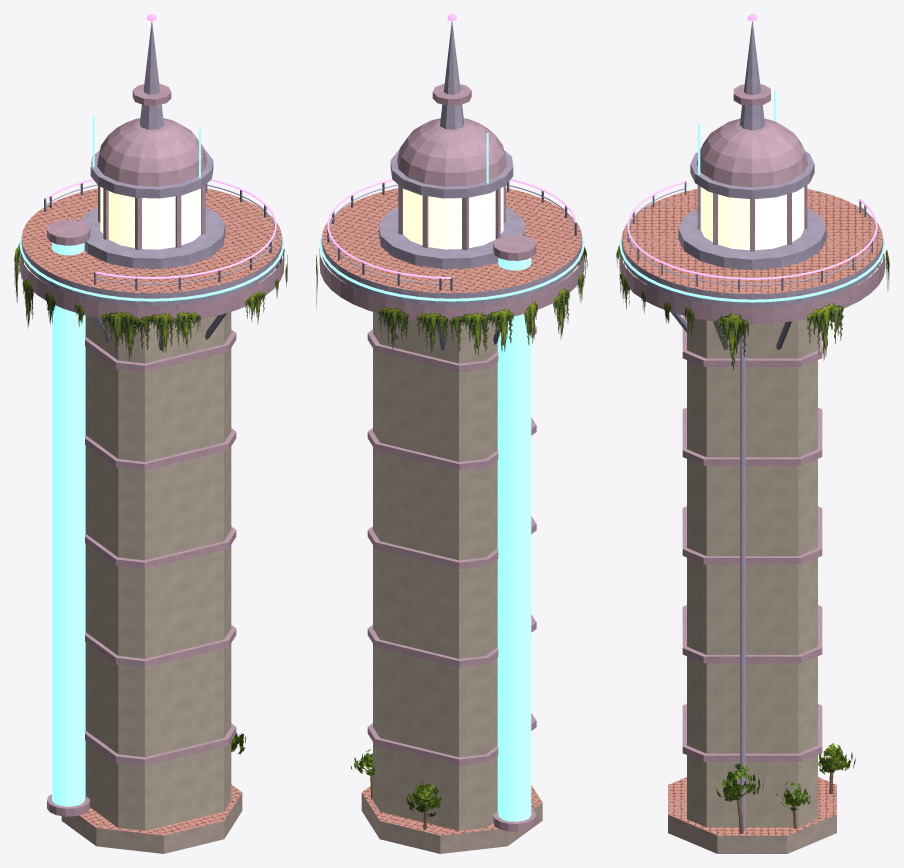
Rendered from TOWER_B.glb.
3 views of the same model, side by side, from view 1: azimuth 30°, elevation 25°; view 2: azimuth 150°, elevation 25°; view 3: azimuth 270°, elevation 25° (orthographic).
Parts seen in each view (by area): view 1: BT_TOWER_B_Body, BT_TOWER_B_Moss44, BT_TOWER_B_Deck44_Rail0_Posts, BT_TOWER_B_Deck44_Rail0_Rail; view 2: BT_TOWER_B_Body, BT_TOWER_B_Moss44, BT_TOWER_B_Trees, BT_TOWER_B_Deck44_Rail0_Posts, BT_TOWER_B_Deck44_Rail0_Rail; view 3: BT_TOWER_B_Body, BT_TOWER_B_Moss44, BT_TOWER_B_Trees, BT_TOWER_B_Deck44_Rail0_Rail, BT_TOWER_B_Deck44_Rail0_Posts.
Part boxes in pixels (x1,y1,x2,y2): BT_TOWER_B_Body: (19, 14, 284, 853); BT_TOWER_B_Moss44: (14, 243, 287, 360); BT_TOWER_B_Deck44_Rail0_Posts: (44, 183, 276, 290); BT_TOWER_B_Deck44_Rail0_Rail: (45, 178, 276, 278); BT_TOWER_B_Body: (319, 14, 584, 853); BT_TOWER_B_Moss44: (316, 246, 587, 354); BT_TOWER_B_Trees: (351, 749, 441, 829); BT_TOWER_B_Deck44_Rail0_Posts: (327, 181, 576, 290); BT_TOWER_B_Deck44_Rail0_Rail: (327, 179, 576, 278); BT_TOWER_B_Body: (619, 14, 885, 853); BT_TOWER_B_Moss44: (616, 245, 889, 370); BT_TOWER_B_Trees: (715, 743, 855, 833); BT_TOWER_B_Deck44_Rail0_Rail: (627, 181, 877, 279); BT_TOWER_B_Deck44_Rail0_Posts: (627, 183, 877, 291).
Bounding box in the file's own units: 18.77 × 61.05 × 18.82.
Materials: 15 (6 with a texture image).
